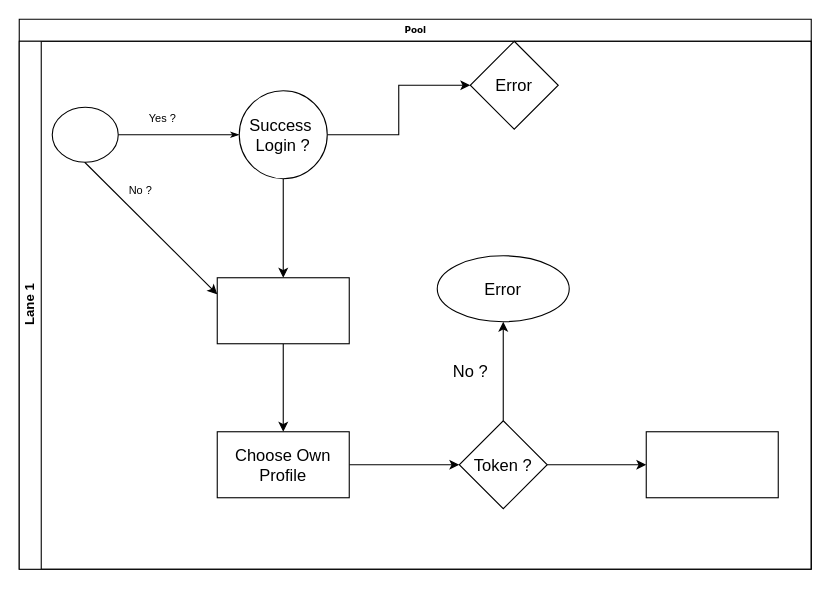
Image size: 831x589. Some labels were removed from this diagram. Here are the shapes that lost their labels. From the top down, the box of each, then its label:
(51, 106, 118, 162): Login
(216, 277, 349, 344): View Profile User
(645, 431, 778, 498): Edit Own Profile
